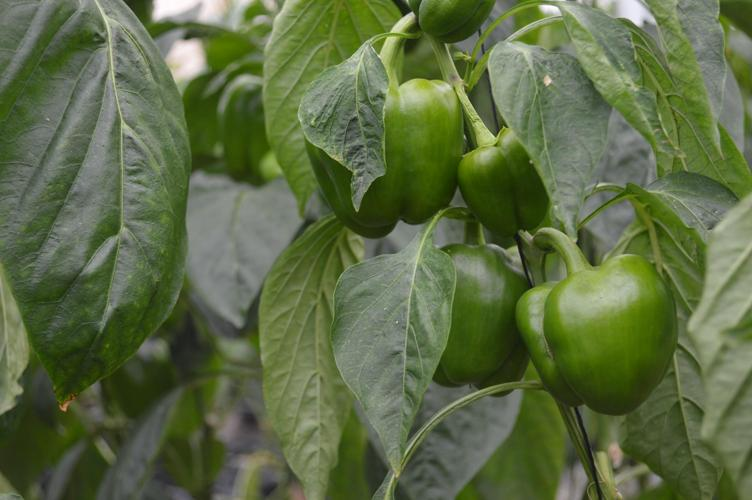BellPepper: (292, 76, 458, 235), (507, 251, 677, 405), (416, 242, 530, 401), (456, 129, 548, 233)
